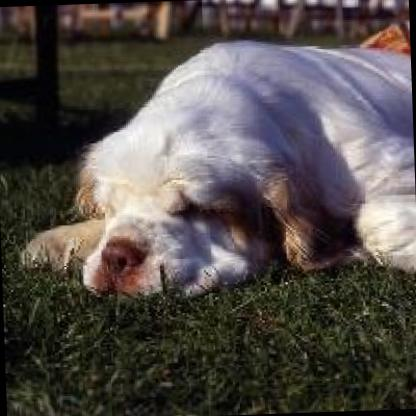clumber: (9, 31, 414, 308)
